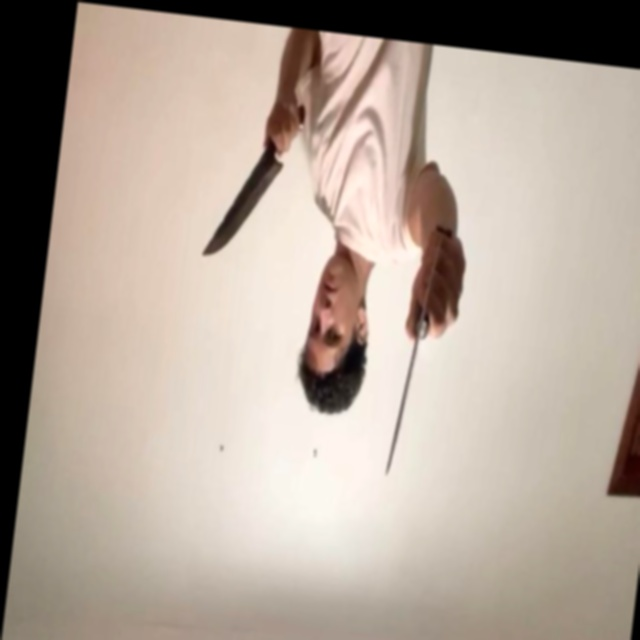Sharp-Object: (201, 156, 283, 266)
